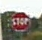stop: (10, 10, 30, 32)
